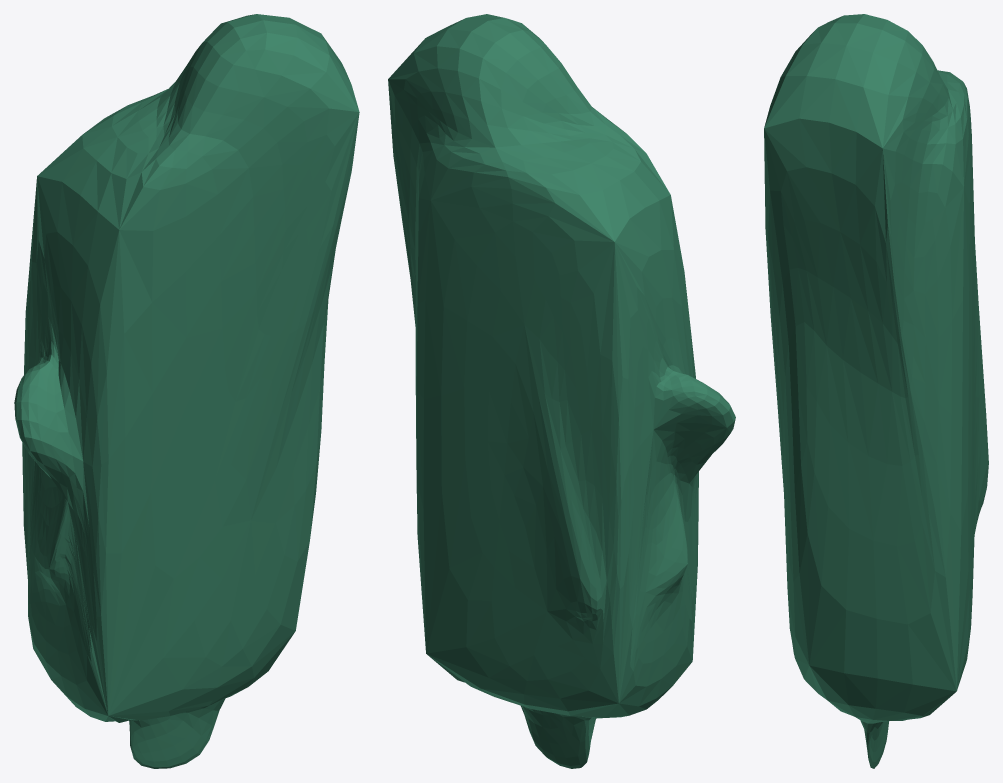
The picture shows the model from 3 angles, left to right: view 1: azimuth 30°, elevation 25°; view 2: azimuth 150°, elevation 25°; view 3: azimuth 270°, elevation 25°; orthographic projection. The views are drawn at different scales.
Parts seen in each view (by area): view 1: 574_Cube.2312; view 2: 574_Cube.2312; view 3: 574_Cube.2312.
Boxes of the visible parts, x1,y1,x2,y2 form: 574_Cube.2312: (14, 14, 359, 768); 574_Cube.2312: (388, 14, 735, 768); 574_Cube.2312: (764, 14, 988, 768).
Bounding box in the file's own units: 7.47 × 15.54 × 4.04.
